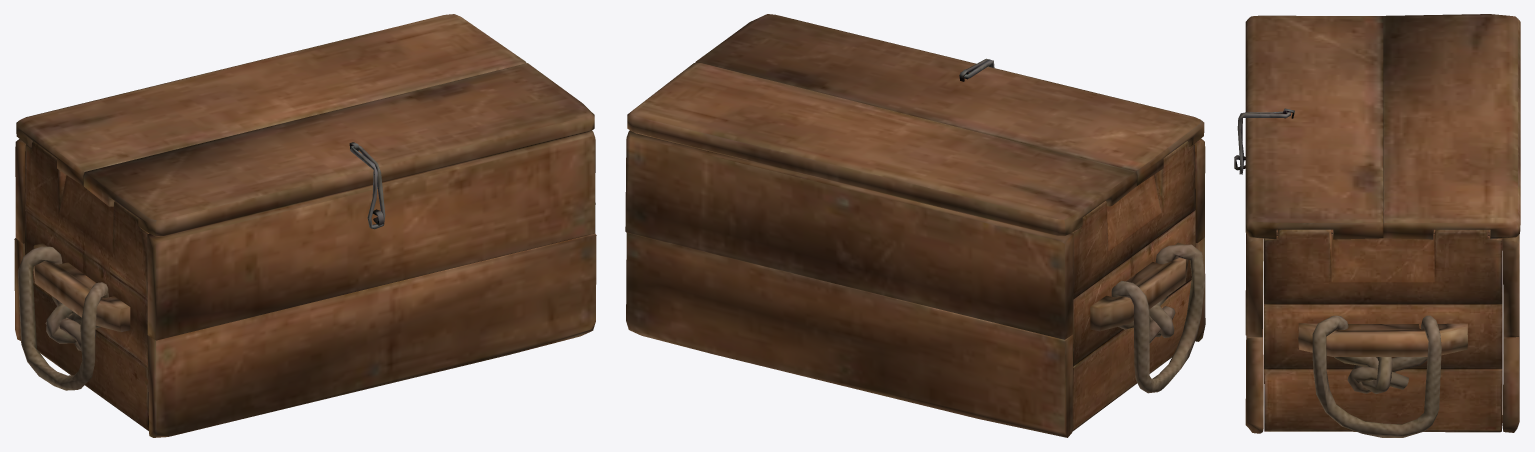
The model's file is wooden_crate_01.glb.
3 views of the same model, side by side, from view 1: azimuth 30°, elevation 25°; view 2: azimuth 150°, elevation 25°; view 3: azimuth 270°, elevation 25° (orthographic). The views are drawn at different scales.
Parts seen in each view (by area): view 1: wooden_crate_01_lid; view 2: wooden_crate_01_lid; view 3: wooden_crate_01_lid.
Boxes of the visible parts, x1,y1,x2,y2 form: wooden_crate_01_lid: [14, 14, 596, 437]; wooden_crate_01_lid: [625, 14, 1205, 437]; wooden_crate_01_lid: [1234, 14, 1520, 437].
Size of the model in its own units: 0.8245 by 0.3472 by 0.4069.
1 material, 1 textured.
